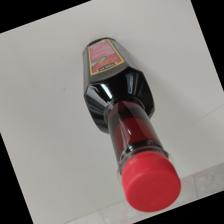Namngu: (81, 36, 181, 213)
